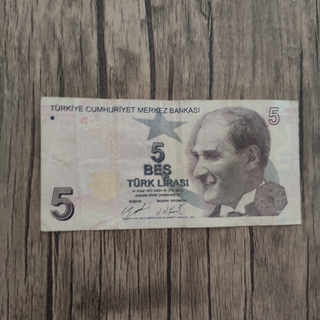5TLFront: (40, 95, 301, 233)
